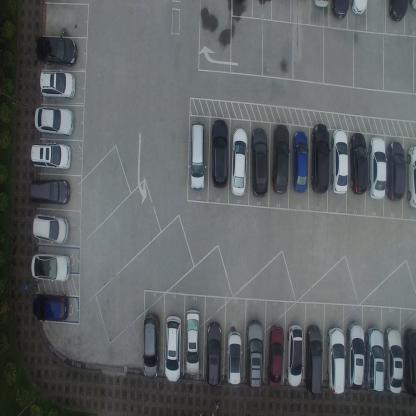car: (310, 121, 330, 194), (35, 34, 77, 68), (345, 320, 365, 390), (326, 326, 346, 396), (383, 325, 403, 394), (250, 127, 269, 199), (304, 324, 323, 395), (33, 105, 75, 137), (271, 122, 289, 196), (364, 326, 384, 392), (30, 251, 71, 283), (230, 126, 248, 198), (349, 132, 369, 196), (210, 118, 228, 189), (142, 311, 161, 378), (30, 141, 72, 171), (188, 121, 206, 191), (32, 212, 69, 246), (164, 314, 182, 383), (247, 319, 264, 392), (386, 140, 406, 202), (331, 128, 349, 196), (38, 68, 76, 100), (32, 290, 69, 322), (28, 178, 70, 206), (266, 324, 284, 389), (184, 308, 201, 376), (286, 322, 304, 386), (292, 128, 309, 193), (369, 136, 386, 200), (206, 320, 222, 388), (402, 326, 416, 396), (227, 332, 242, 388), (406, 145, 416, 209), (387, 0, 410, 22), (330, 0, 348, 19), (350, 0, 368, 15), (312, 0, 330, 9)
